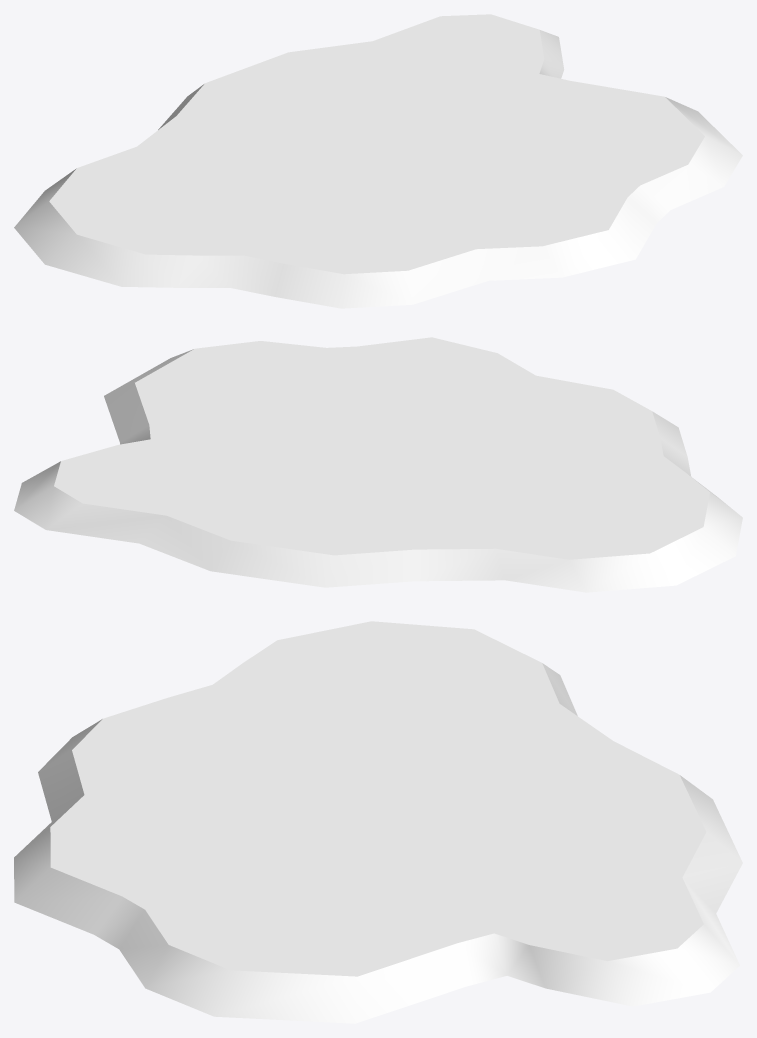
The model's file is patch-sand.glb.
The picture shows the model from 3 angles, top to bottom: view 1: azimuth 30°, elevation 25°; view 2: azimuth 150°, elevation 25°; view 3: azimuth 270°, elevation 25°; orthographic projection. The views are drawn at different scales.
Visible parts, largest first — view 1: patch-sand; view 2: patch-sand; view 3: patch-sand.
Boxes of the visible parts, x1,y1,x2,y2 form: patch-sand: (14, 14, 742, 308); patch-sand: (14, 337, 742, 592); patch-sand: (14, 621, 742, 1023).
Size of the model in its own units: 7.74 by 0.2503 by 6.04.
Materials: 1 (1 with a texture image).
